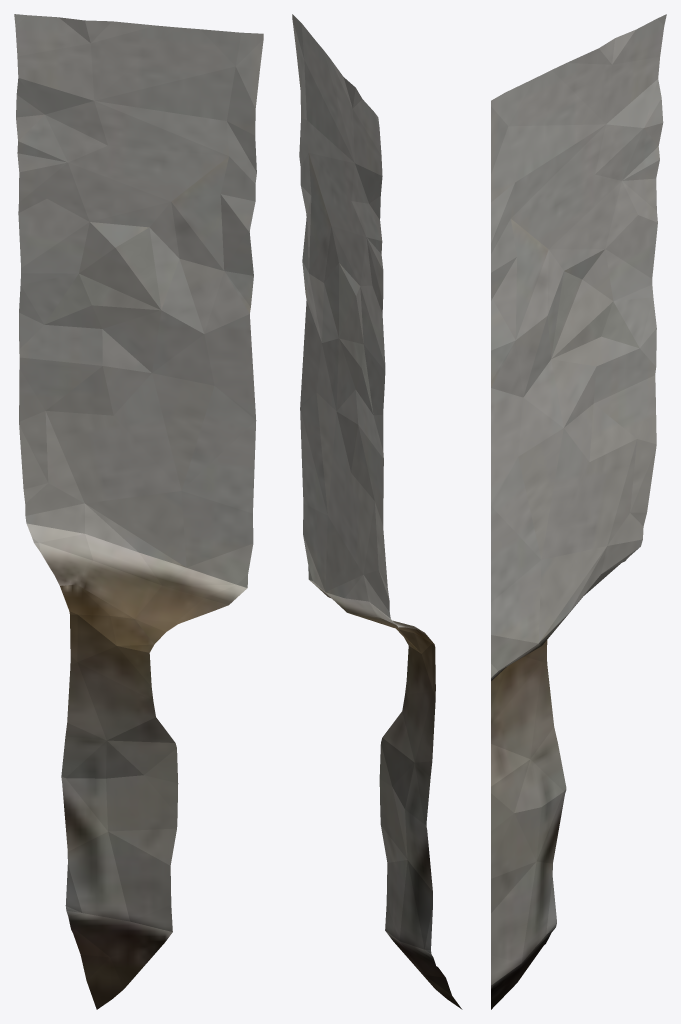
3 views of the same model, side by side, from view 1: azimuth 30°, elevation 25°; view 2: azimuth 150°, elevation 25°; view 3: azimuth 270°, elevation 25° (orthographic). The views are drawn at different scales.
Bounding box in the file's own units: 0.1186 × 0.6351 × 0.1017.
Materials: 1 (1 with a texture image).
